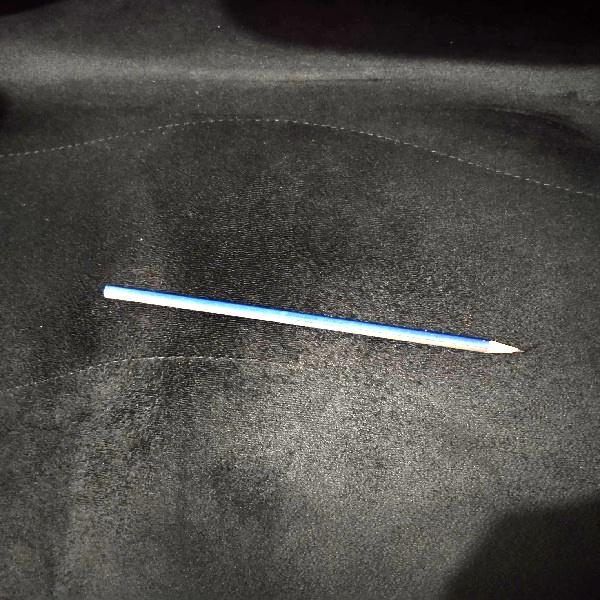pencil: (98, 275, 526, 375)
